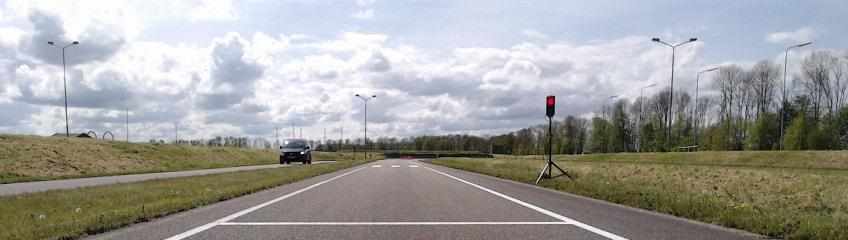TrafficLight-red: (546, 96, 555, 115)
